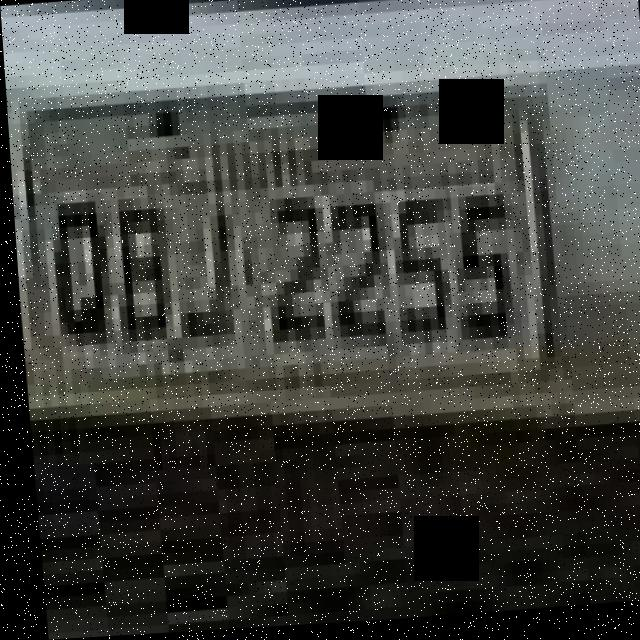5: (381, 193, 452, 360), (442, 190, 511, 359)
B: (113, 195, 169, 347)
J: (169, 173, 259, 373)
Q: (50, 194, 112, 353)
